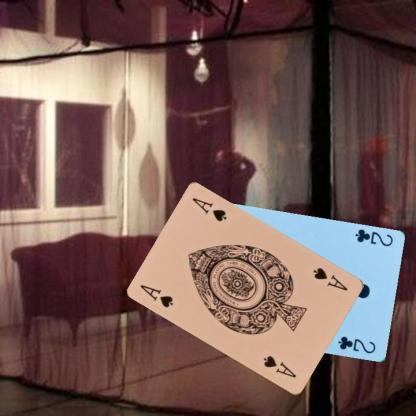2c: (352, 226, 394, 248)
As: (310, 264, 350, 292), (138, 282, 176, 309)
